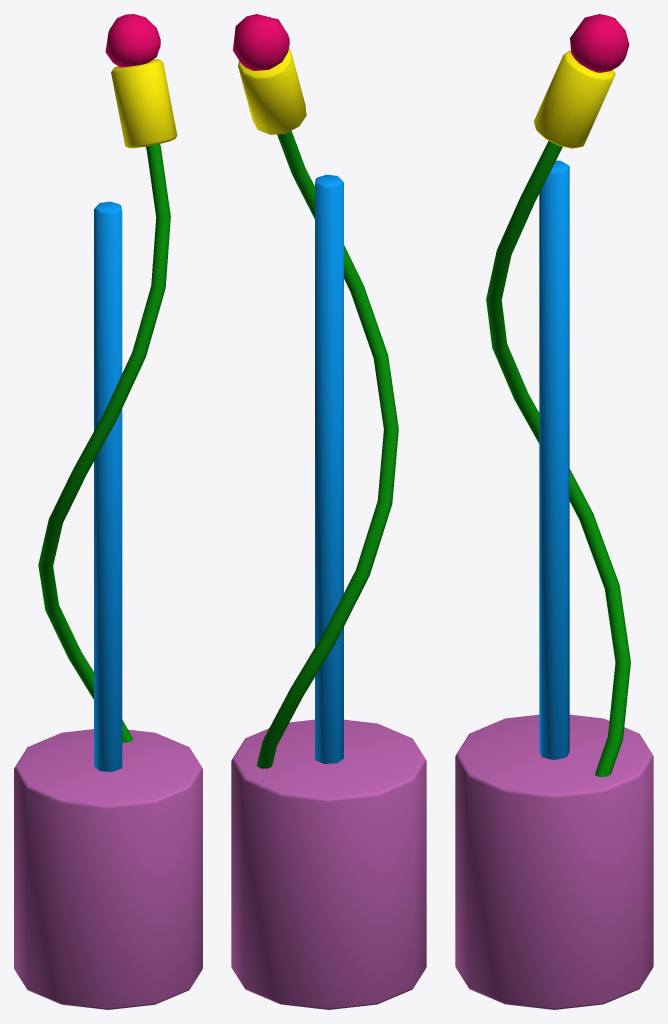
Rendered from Sinerpica.glb.
3 views of the same model, side by side, from view 1: azimuth 30°, elevation 25°; view 2: azimuth 150°, elevation 25°; view 3: azimuth 270°, elevation 25° (orthographic). The views are drawn at different scales.
Visible parts, largest first — view 1: Base, stem, Sweep_NURBS, Bell, Sphere; view 2: Base, stem, Sweep_NURBS, Bell, Sphere; view 3: Base, stem, Sweep_NURBS, Bell, Sphere.
Boxes of the visible parts, bbox=[...] form: Base: bbox=[14, 729, 202, 1009]; stem: bbox=[94, 201, 122, 771]; Sweep_NURBS: bbox=[38, 144, 170, 742]; Bell: bbox=[111, 59, 177, 148]; Sphere: bbox=[105, 14, 160, 67]; Base: bbox=[231, 719, 426, 1009]; stem: bbox=[315, 174, 343, 763]; Sweep_NURBS: bbox=[256, 131, 398, 768]; Bell: bbox=[238, 49, 306, 134]; Sphere: bbox=[232, 14, 289, 70]; Base: bbox=[455, 714, 653, 1009]; stem: bbox=[539, 160, 569, 759]; Sweep_NURBS: bbox=[486, 141, 630, 777]; Bell: bbox=[533, 50, 615, 148]; Sphere: bbox=[570, 14, 629, 72].
Bounding box in the file's own units: 3.5 × 18.99 × 3.5.
